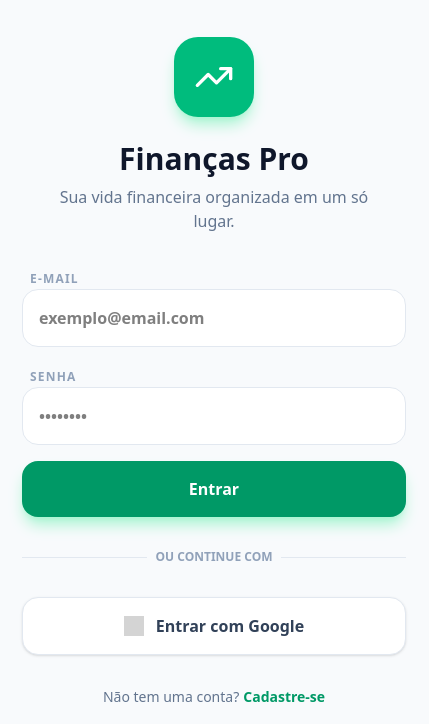
Test: Login › toggles to sign up form
Step 1. Click the button "Cadastre-se" → coordinates (284, 697), box [243,687,325,707]
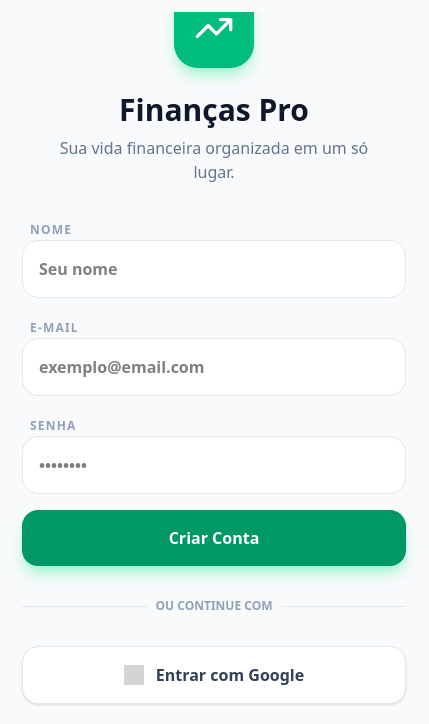
Expected: the field with placeholder "Seu nome" is shown, [22,240,406,298]
